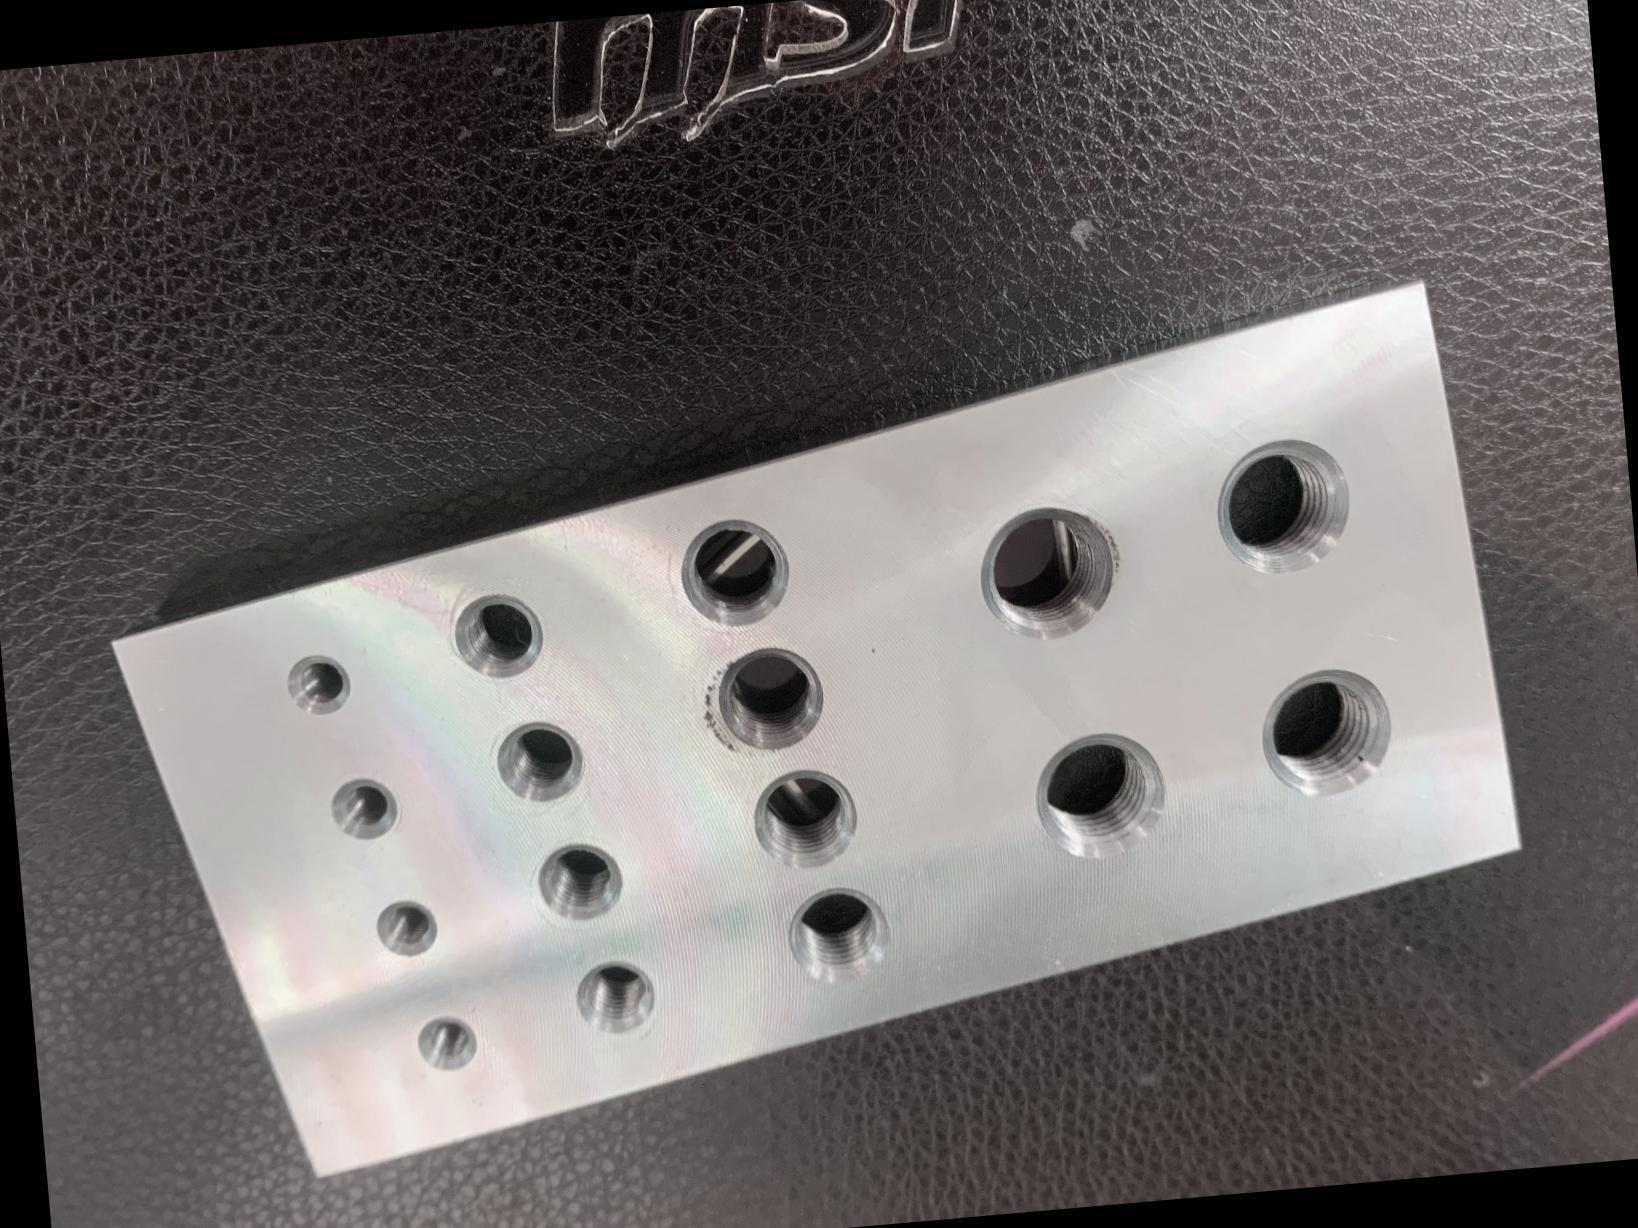hole: (963, 481, 1141, 669), (1018, 712, 1190, 878), (1202, 424, 1371, 587), (1245, 657, 1414, 817), (680, 635, 850, 767), (659, 503, 801, 644), (736, 752, 877, 885), (433, 575, 556, 702), (776, 873, 900, 989), (555, 938, 677, 1049), (515, 831, 644, 935), (350, 875, 464, 980), (479, 715, 602, 811), (307, 761, 429, 854), (395, 984, 490, 1095), (267, 636, 368, 739)
